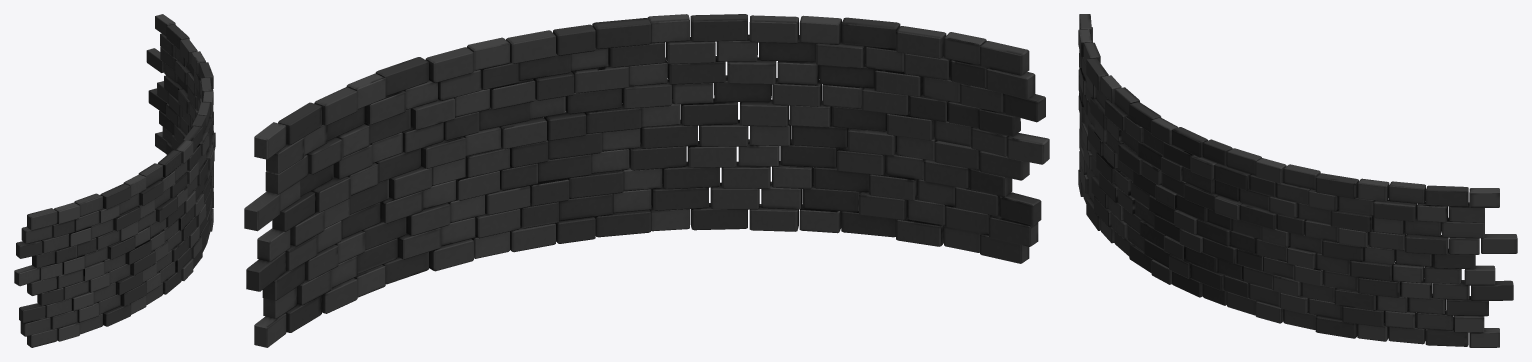
Rendered from wall curve quarter.glb.
3 renders of one model, left to right at view 1: azimuth 30°, elevation 25°; view 2: azimuth 150°, elevation 25°; view 3: azimuth 270°, elevation 25°, orthographic. The views are drawn at different scales.
Parts seen in each view (by area): view 1: wall curve quarter; view 2: wall curve quarter; view 3: wall curve quarter.
Boxes of the visible parts, box(x1,y1,x2,y2) form: wall curve quarter: box(14, 14, 215, 347); wall curve quarter: box(244, 14, 1049, 347); wall curve quarter: box(1078, 14, 1517, 347).
Bounding box in the file's own units: 7.75 × 3 × 7.68.
Materials: 3 (3 with a texture image).
